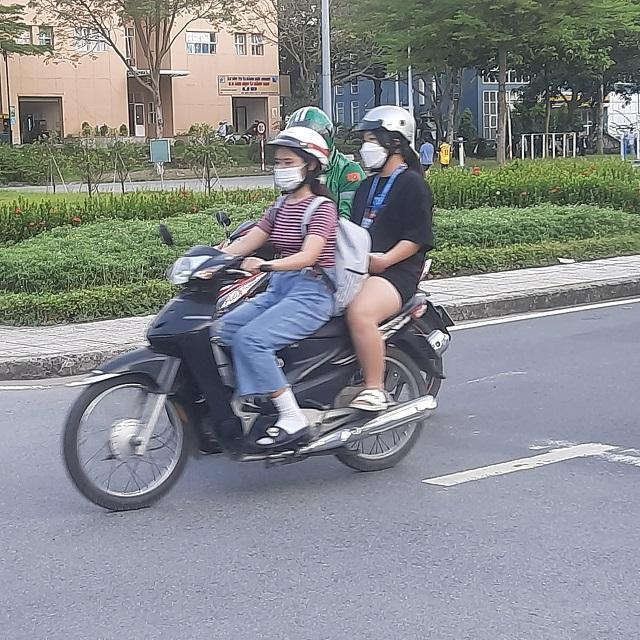Helmet: (360, 104, 416, 172), (270, 126, 326, 192), (285, 105, 335, 151)
